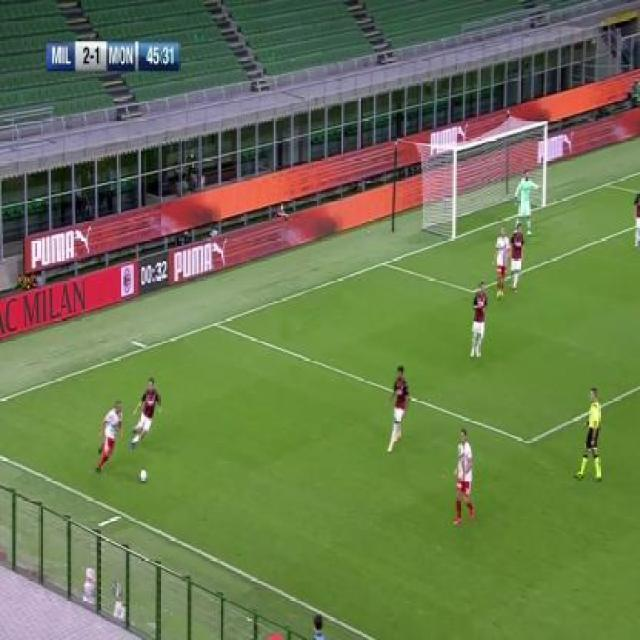ball: (138, 467, 149, 484)
player: (574, 386, 607, 479), (452, 427, 477, 529), (384, 365, 412, 453), (130, 377, 163, 450), (95, 398, 126, 474), (468, 281, 490, 360), (492, 225, 511, 298), (514, 167, 534, 233), (509, 224, 526, 295), (632, 186, 640, 252)
